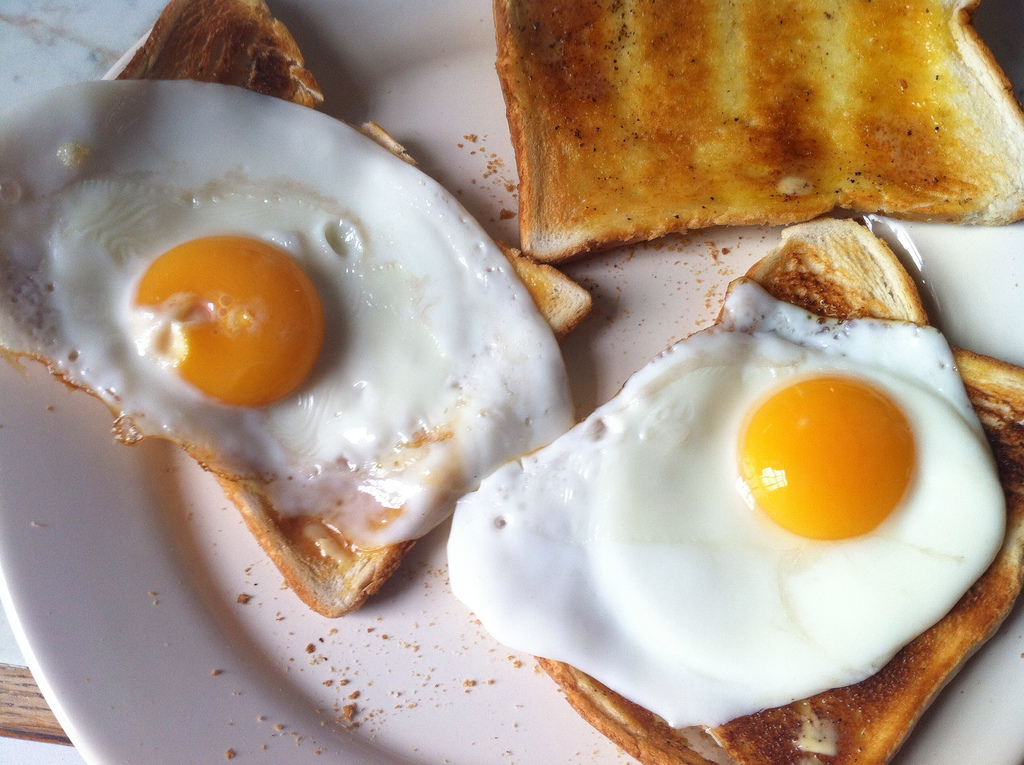fried egg: (6, 100, 534, 528), (503, 321, 978, 696)
slice of bread: (2, 2, 560, 608), (546, 234, 1021, 765), (491, 1, 1016, 234)
